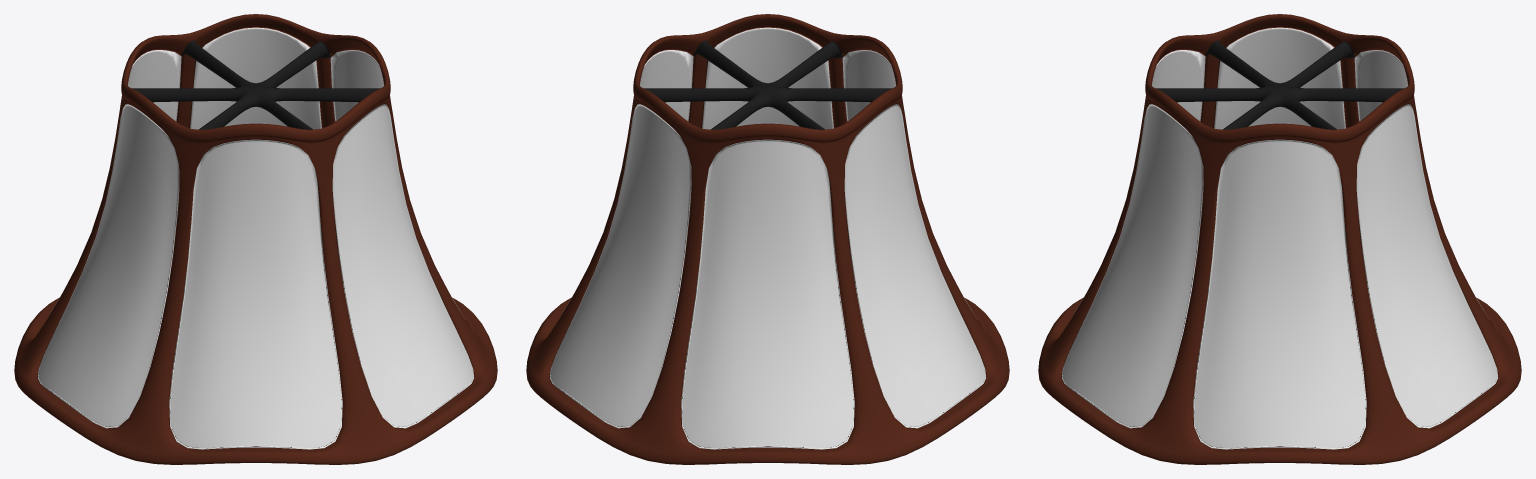
Rendered from SM_Lampshade.fbx.
3 renders of one model, left to right at view 1: azimuth 30°, elevation 25°; view 2: azimuth 150°, elevation 25°; view 3: azimuth 270°, elevation 25°, orthographic.
Visible parts, largest first — view 1: Circle; view 2: Circle; view 3: Circle.
Boxes of the visible parts, <box> form: Circle: <box>14,14,497,464</box>; Circle: <box>526,14,1009,464</box>; Circle: <box>1038,14,1521,464</box>.
Bounding box in the file's own units: 0.2031 × 0.1409 × 0.2031.
